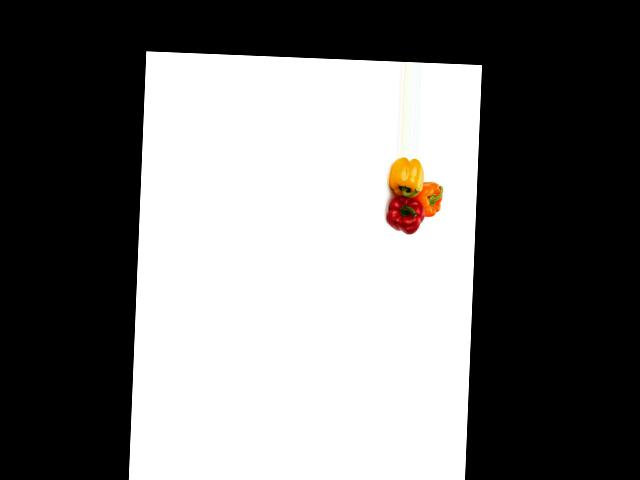bell_pepper: (385, 156, 425, 196)
